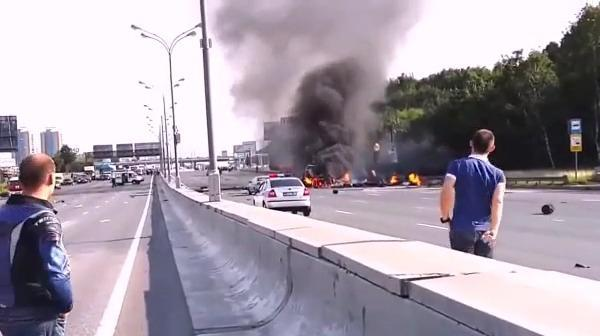fire: (304, 171, 353, 188), (387, 171, 424, 186)
